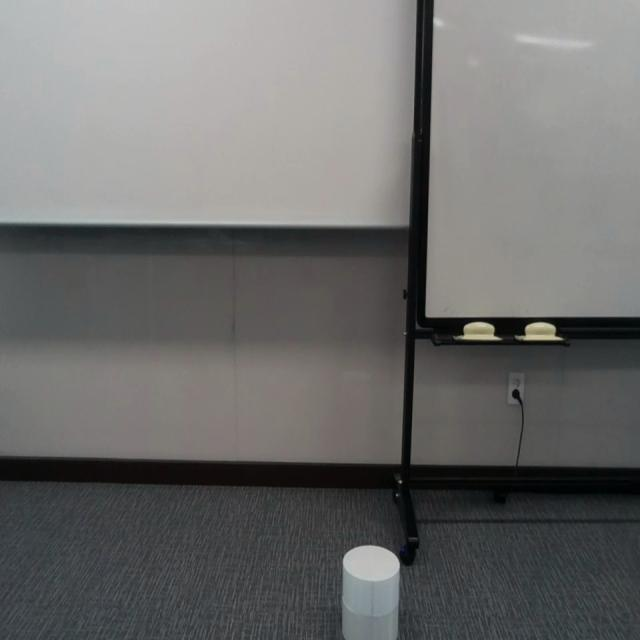cylinder: (341, 545, 401, 639)
